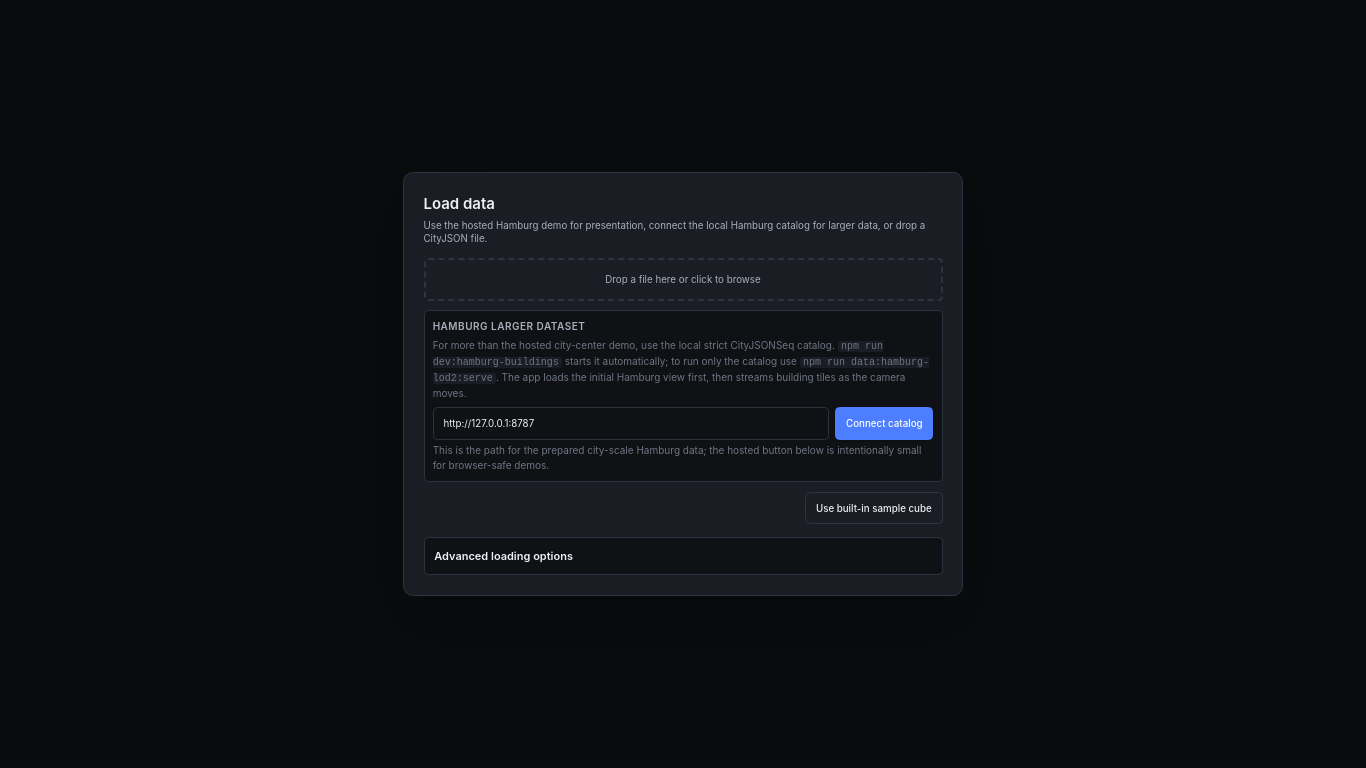
Test: <FileLoader /> › connects the local CityJSONSeq catalog in viewport streaming mode
The width and height of the screenshot is (1366, 768).
What coordinates should you click on to do the following:
click the button "Connect catalog"
I would click on:
 (884, 423)
Its box is [835,407,933,440].
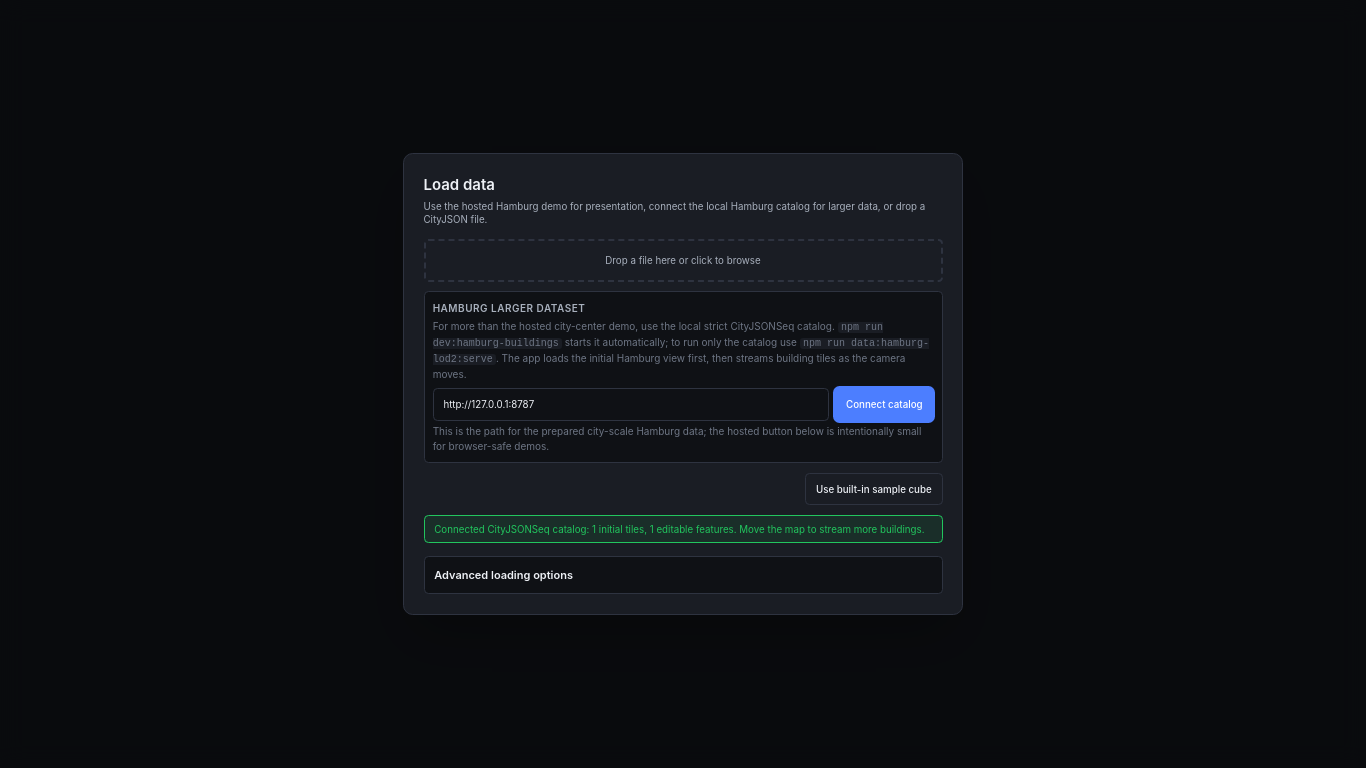
Now the text "Connected CityJSONSeq catalog" is shown, box [434,524,924,535]
